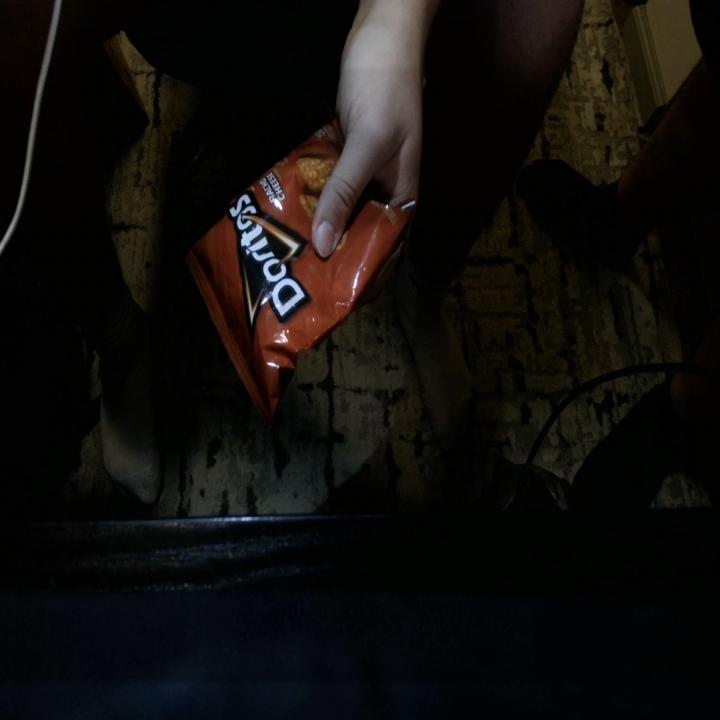Doritos: (180, 128, 430, 397)
